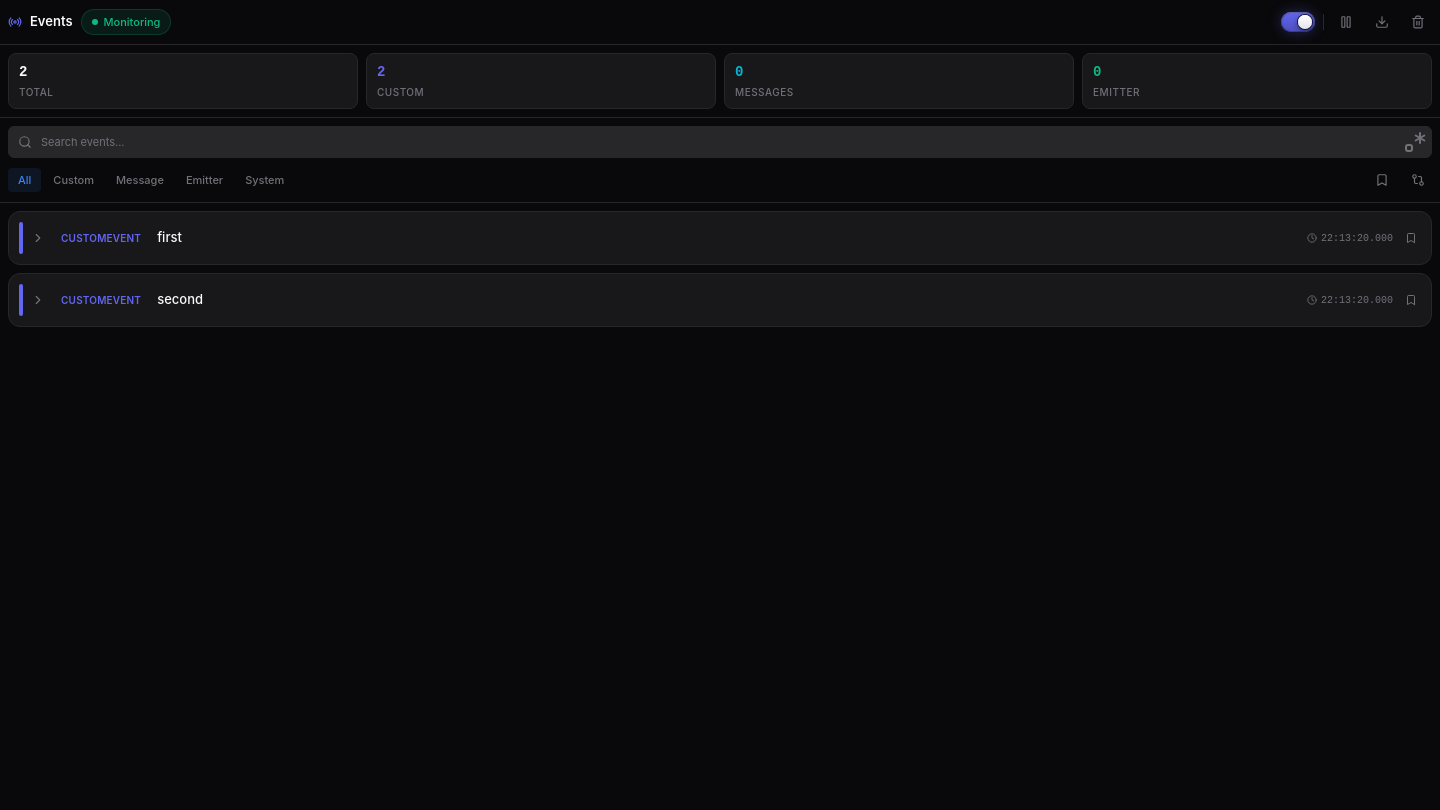
Test: EventsTab › prompts to pick two events in compare mode, then opens the comparison
Expected: the text "first" is shown, [157,229,182,245]
Step 1. Click the button titled "Compare events" → (1418, 180), box [1404,166,1432,194]
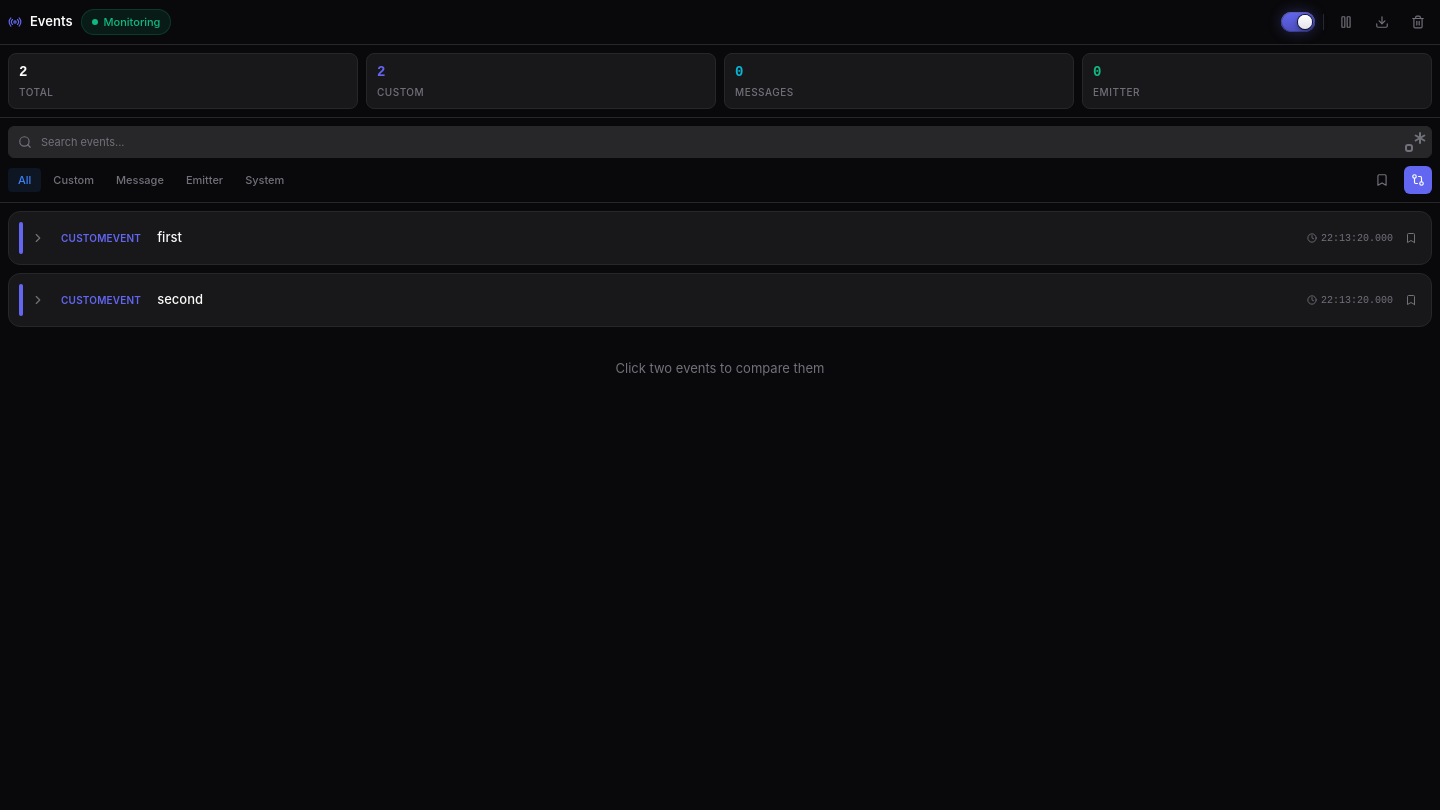
Now the text "Click two events to compare them" is shown, box [616,360,824,376]
Step 2. Click the text "first" → (169, 237), box [157,229,182,245]
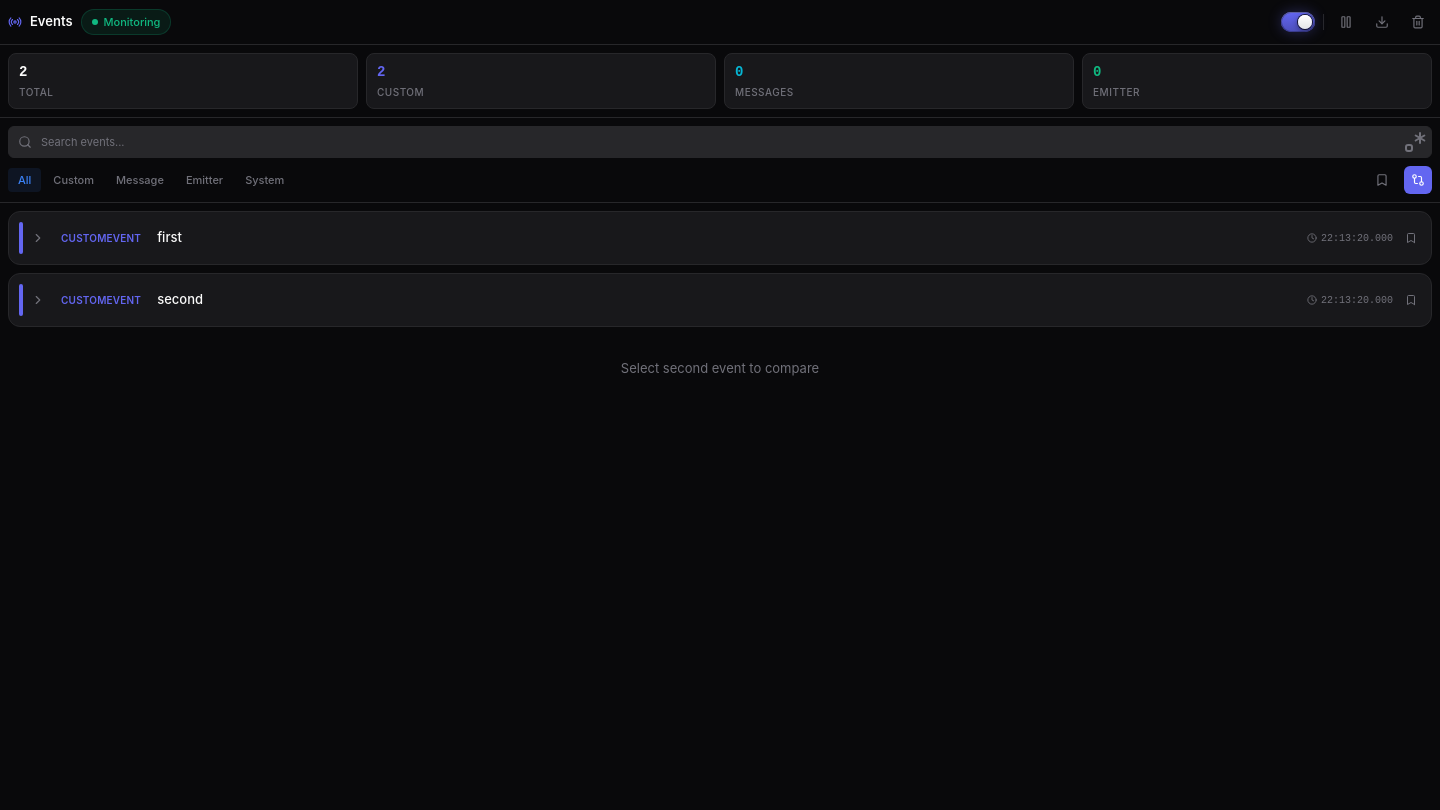
Now the text "Select second event to compare" is shown, box [621,360,819,376]
Step 3. Click the text "second" → (180, 299), box [157,291,203,307]
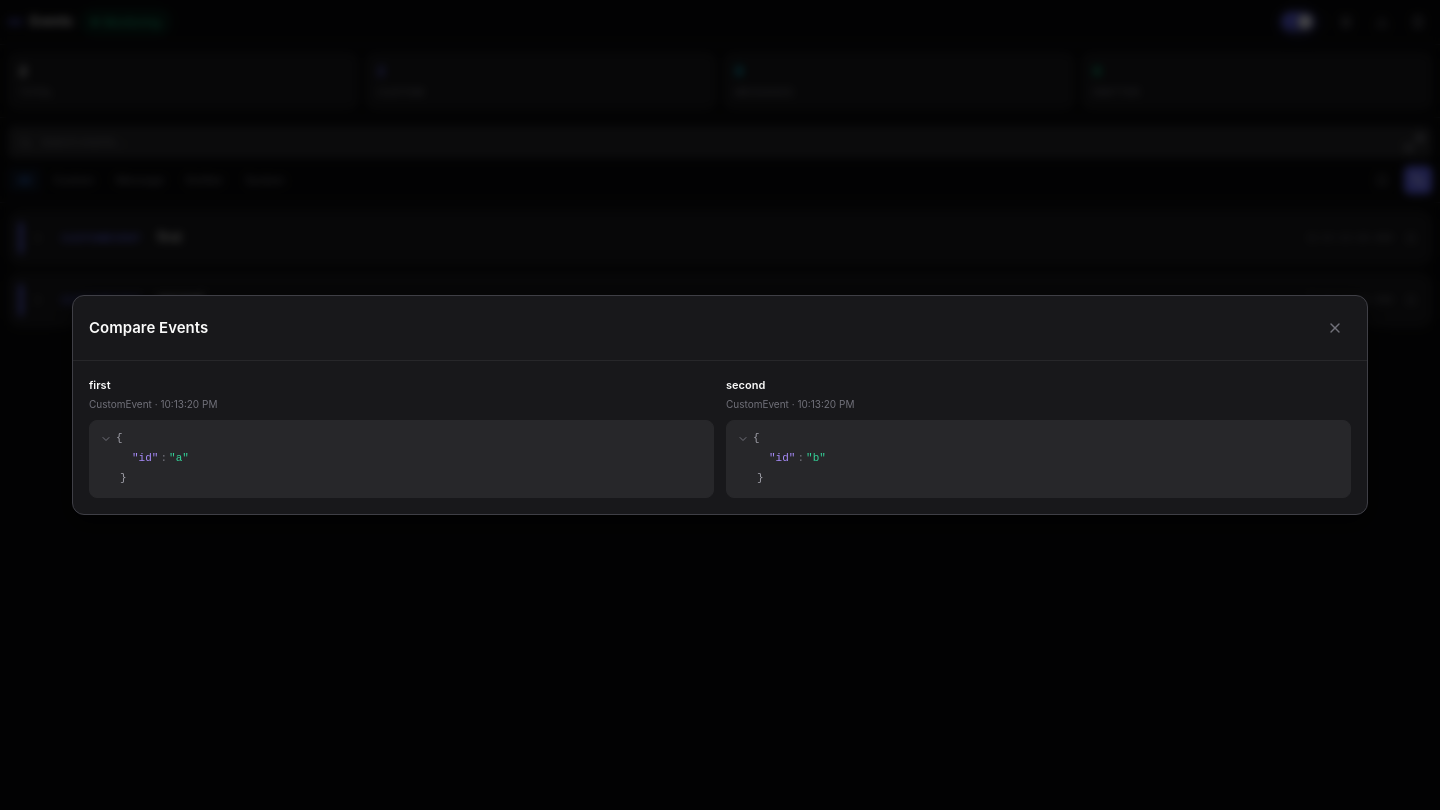
Now the text "Compare Events" is shown, box [89,316,208,339]
